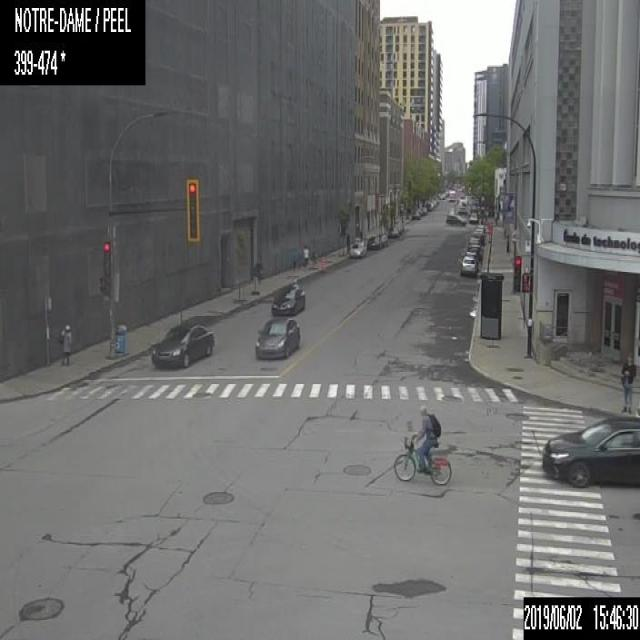bus: (448, 189, 455, 201)
construction: (320, 255, 327, 274)
cyclist: (392, 406, 452, 486)
pedestrian: (619, 352, 636, 413), (58, 323, 73, 364), (344, 232, 349, 253), (302, 244, 307, 265)
vehicle: (540, 413, 639, 488), (148, 320, 214, 368), (253, 315, 300, 360), (271, 284, 305, 315), (460, 254, 476, 274), (464, 250, 478, 270), (466, 238, 482, 255), (349, 241, 366, 257), (446, 214, 466, 227), (367, 235, 383, 249), (387, 225, 400, 238), (471, 227, 484, 237), (468, 212, 477, 223), (424, 202, 432, 210), (412, 210, 419, 219), (420, 207, 426, 214)
